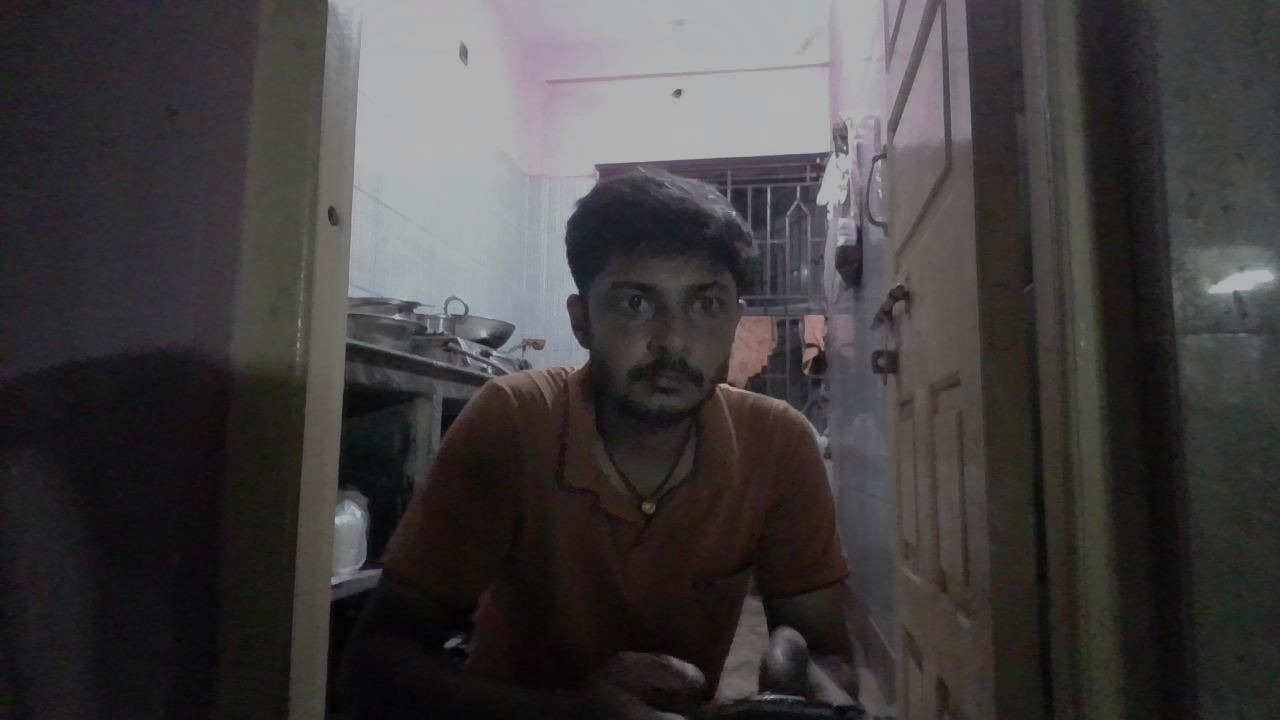red_box: (671, 404, 846, 578)
